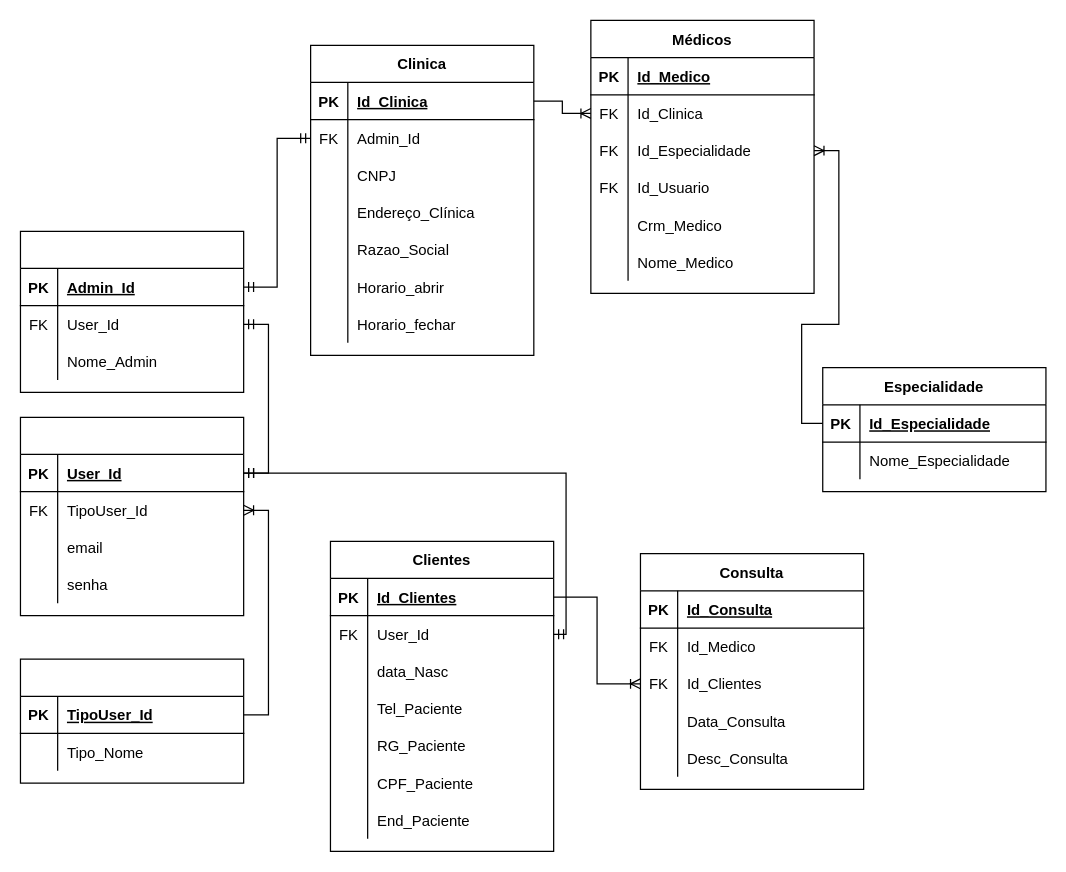
The diagram is 1066 pixels wide and 872 high, and some of its shapes have lost their labels. Here are the shapes that lost their labels. From the top down, the box of each, then its label:
(19, 230, 244, 392): Administrador
(19, 416, 244, 616): Usuário
(19, 658, 244, 783): TipoUsuario
